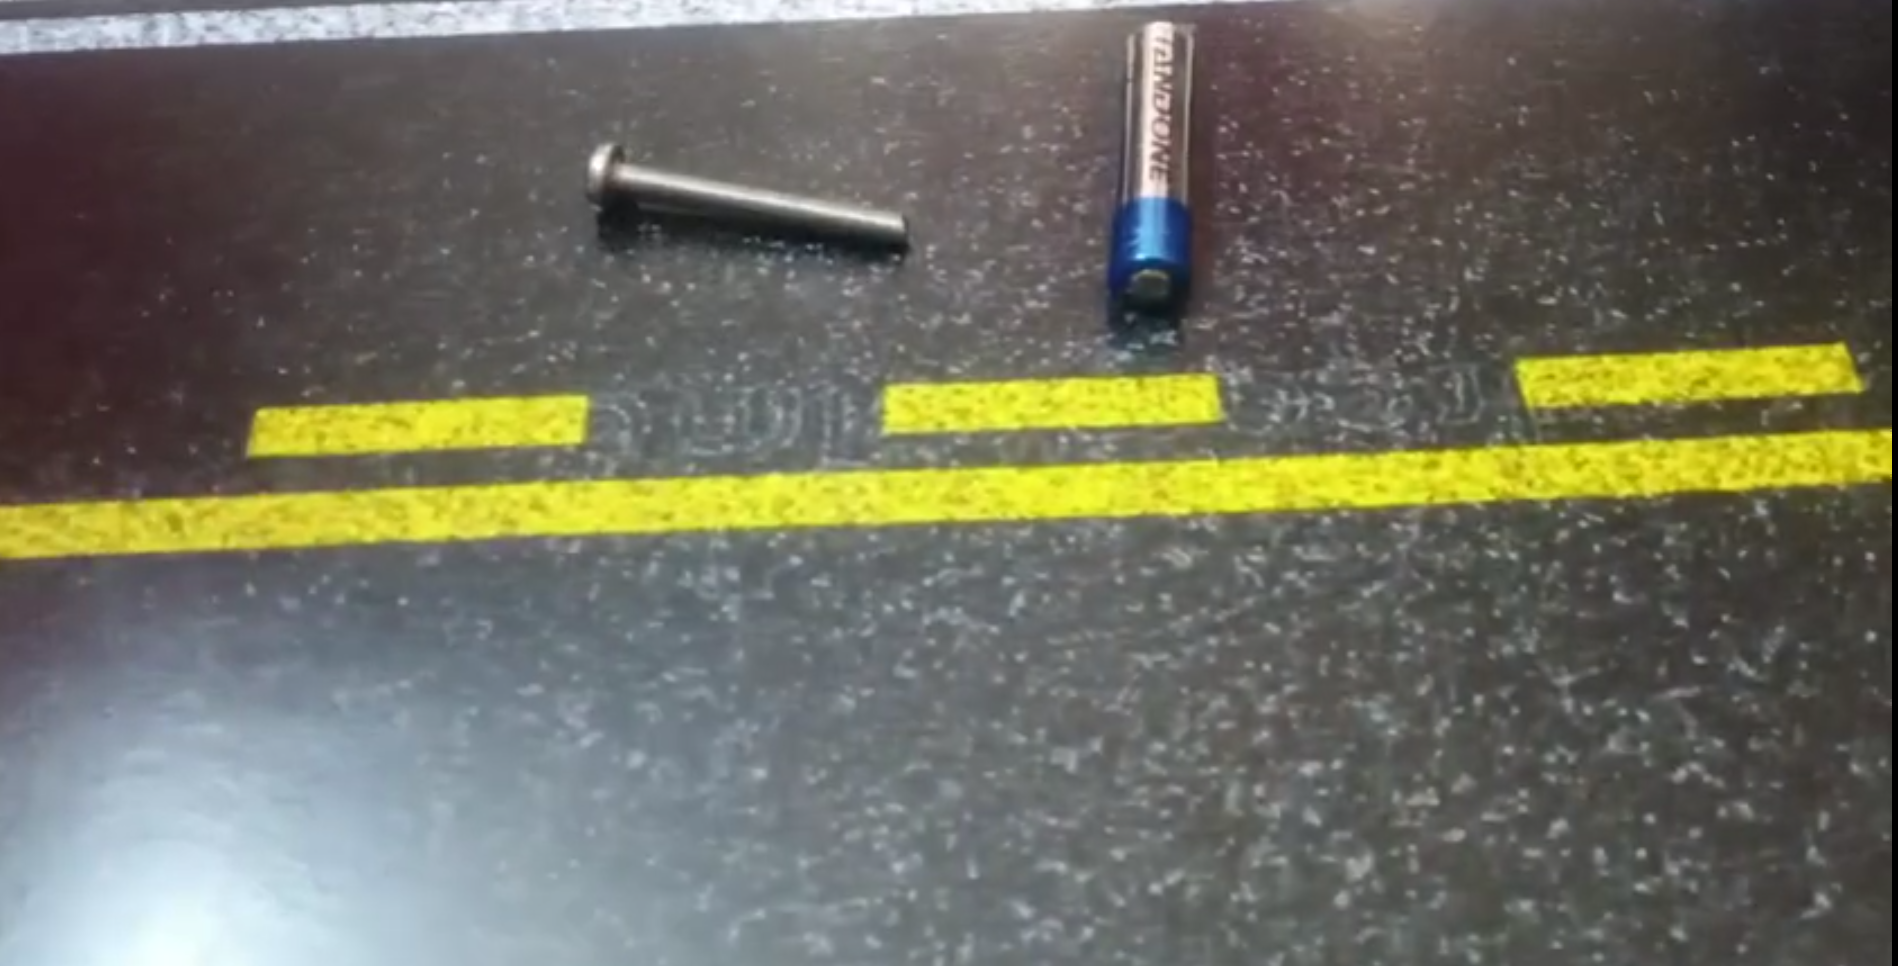metal: (576, 132, 914, 276), (1110, 18, 1206, 317)
